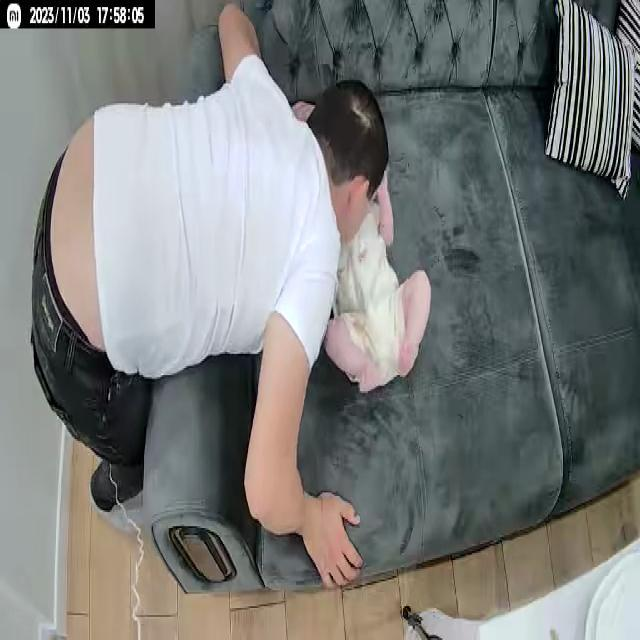baby: (320, 172, 432, 402)
